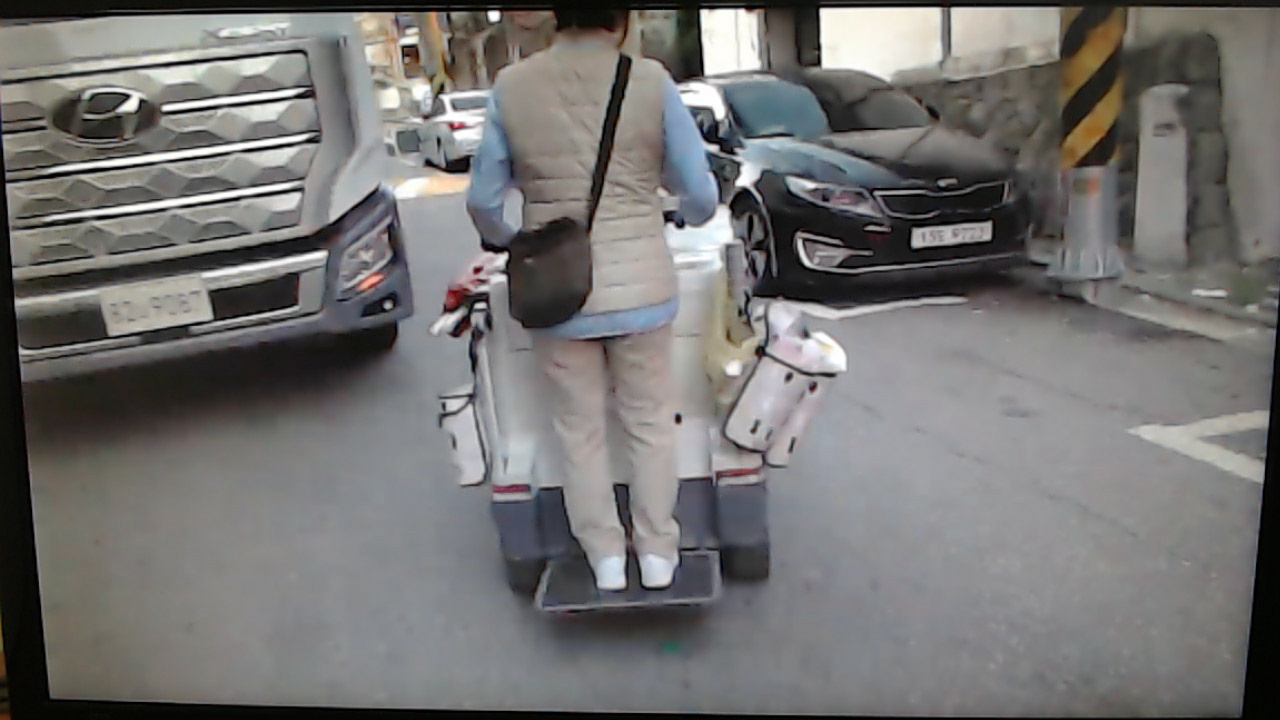Yakurut: (463, 13, 728, 609)
